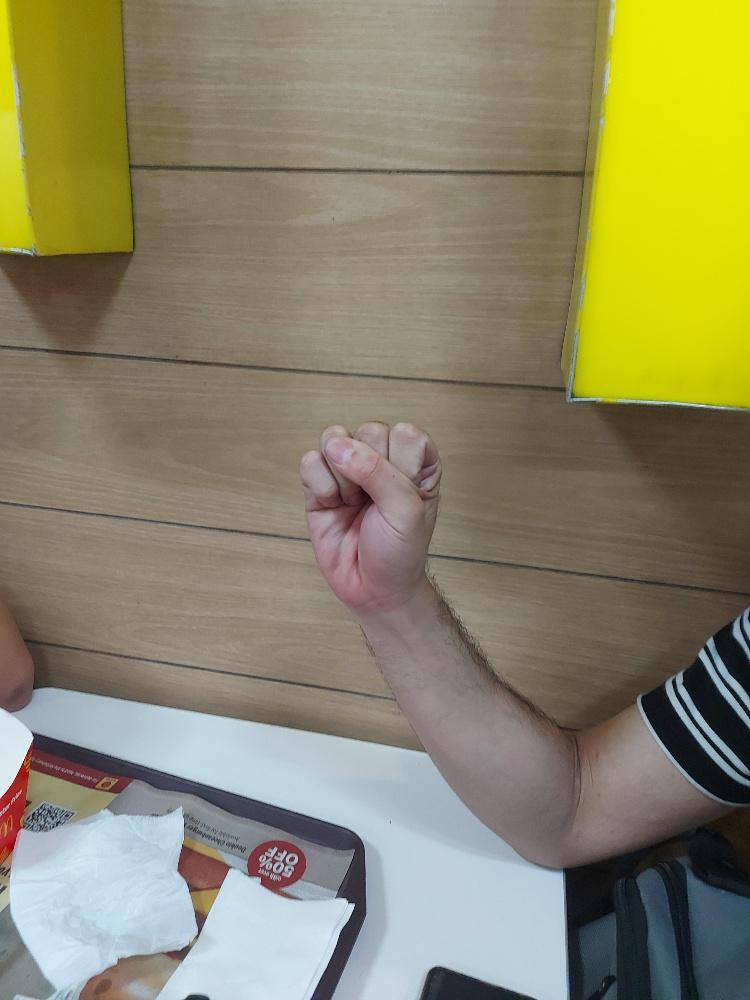s: (295, 414, 444, 602)
